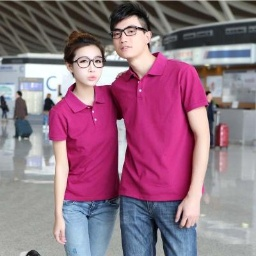face: (109, 2, 153, 59), (62, 30, 104, 87)
